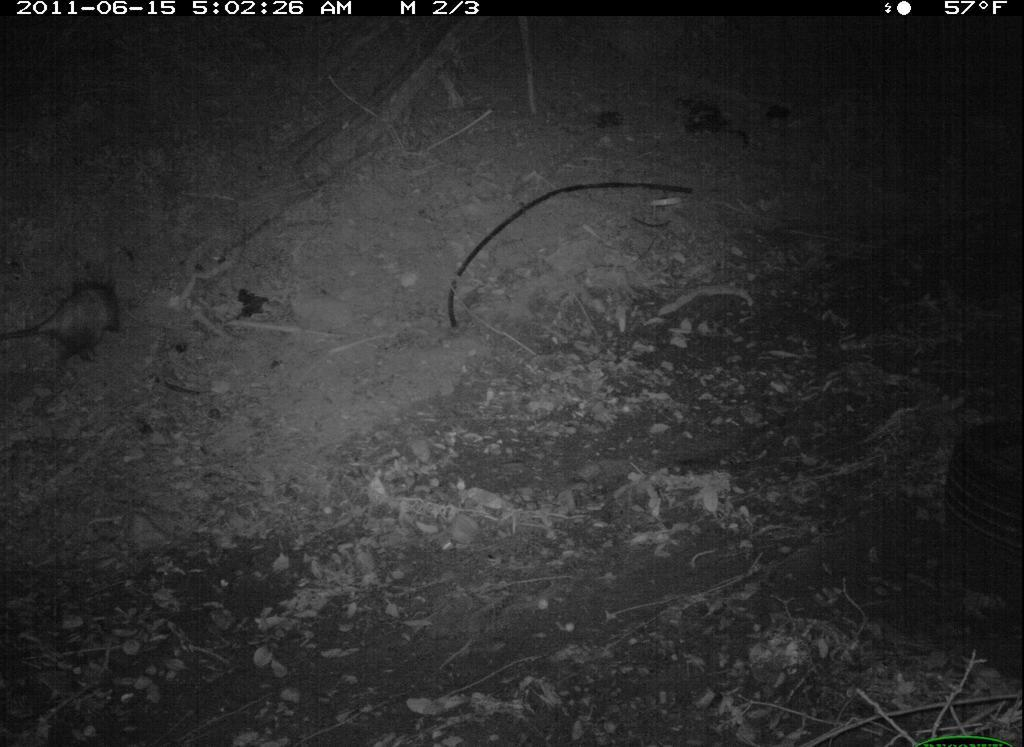opossum: (8, 272, 131, 378)
